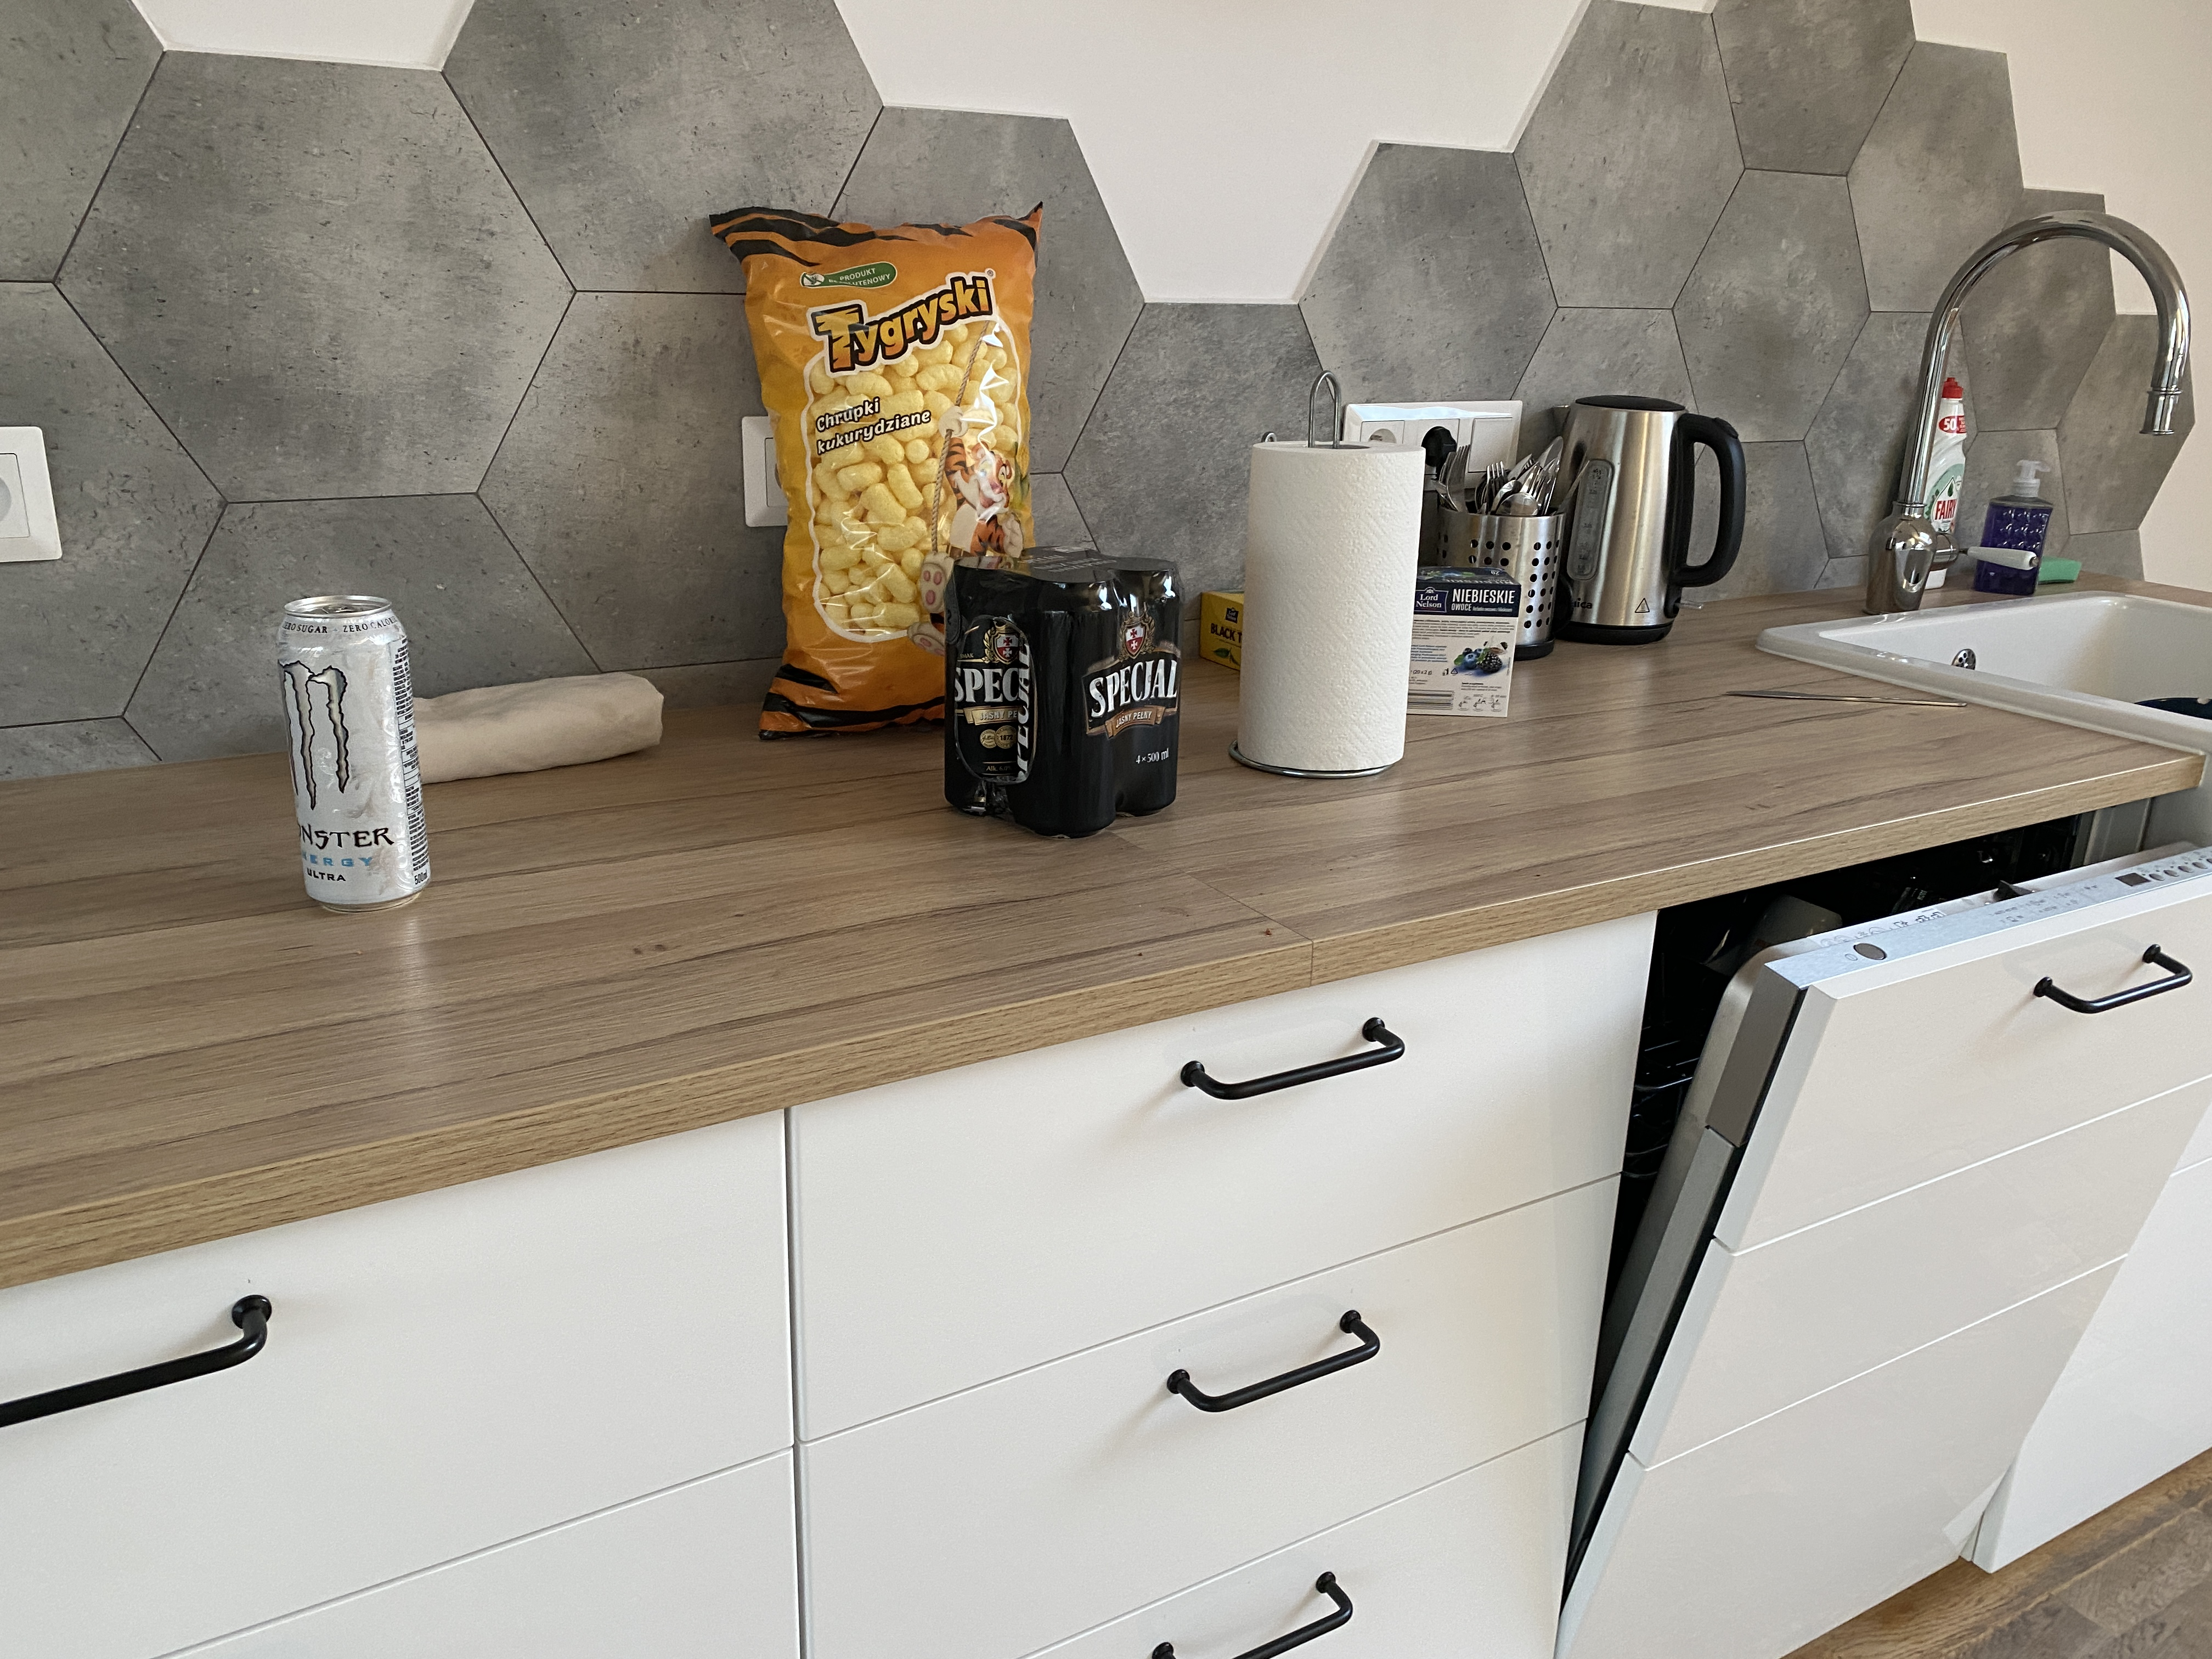specjal: (948, 545, 1181, 842)
